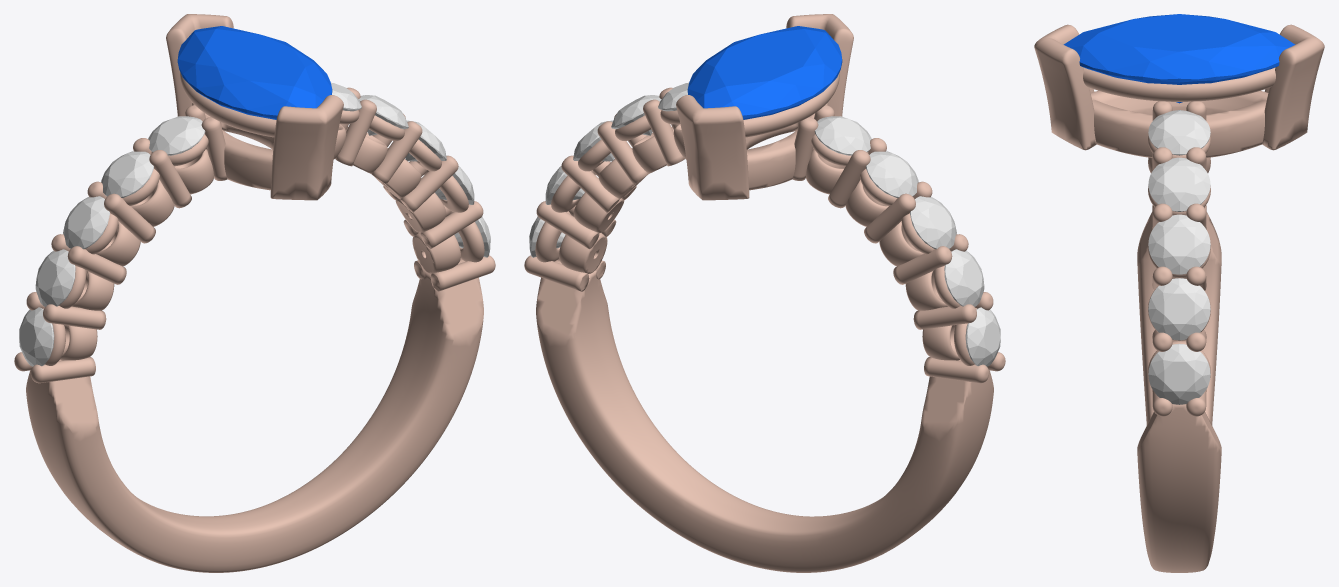
Rendered from bluesapphire-marquise-rosegold-protectededges2prongs-straighttaperedband-11stone.glb.
The picture shows the model from 3 angles, left to right: view 1: azimuth 30°, elevation 25°; view 2: azimuth 150°, elevation 25°; view 3: azimuth 270°, elevation 25°; orthographic projection. The views are drawn at different scales.
Visible parts, largest first — view 1: metal, stone, dia.004, dia.005, dia.003, dia.006, dia, dia.010; view 2: metal, stone, dia.004, dia.005, dia.003, dia.006, dia, dia.010; view 3: metal, stone, dia.008, dia.007, dia.009, dia.010, dia.011.
Part boxes in pixels (<box>): metal: <box>14,14,495,572</box>; stone: <box>177,26,332,119</box>; dia.004: <box>63,196,109,249</box>; dia.005: <box>101,151,153,197</box>; dia.003: <box>35,249,75,306</box>; dia.006: <box>148,116,205,155</box>; dia: <box>19,307,54,366</box>; dia.010: <box>358,95,408,135</box>; metal: <box>524,14,1005,572</box>; stone: <box>687,26,842,119</box>; dia.004: <box>910,196,956,249</box>; dia.005: <box>866,151,918,197</box>; dia.003: <box>944,249,984,306</box>; dia.006: <box>814,116,871,155</box>; dia: <box>965,307,1000,366</box>; dia.010: <box>611,95,661,135</box>; metal: <box>1034,24,1324,572</box>; stone: <box>1063,14,1295,103</box>; dia.008: <box>1148,278,1210,340</box>; dia.007: <box>1148,343,1210,404</box>; dia.009: <box>1148,214,1210,274</box>; dia.010: <box>1148,157,1210,211</box>; dia.011: <box>1148,110,1210,155</box>.
Bounding box in the file's own units: 21.97 × 22.94 × 11.69.
